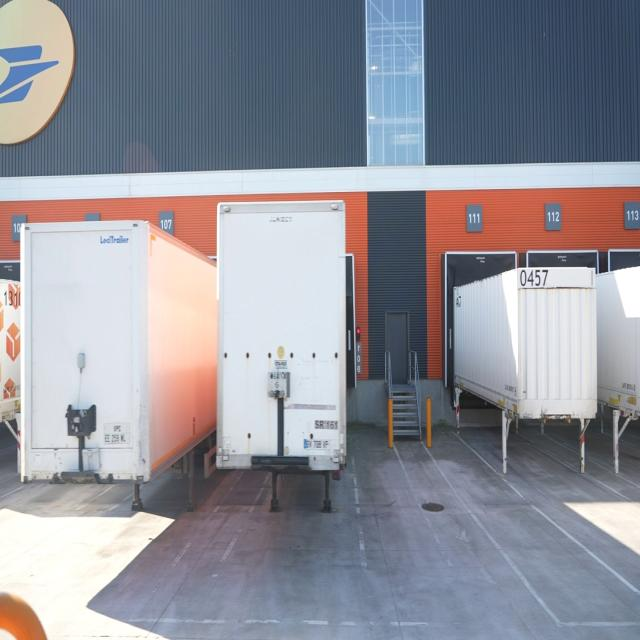Code: (518, 264, 552, 291)
